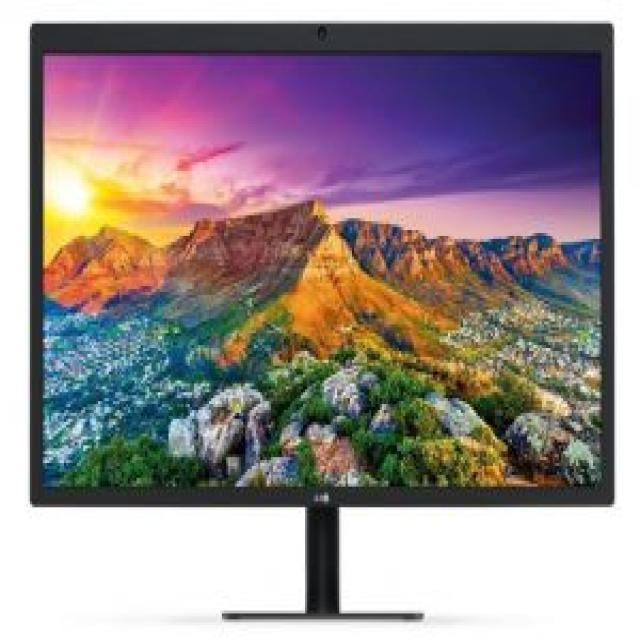monitor: (14, 19, 624, 622)
